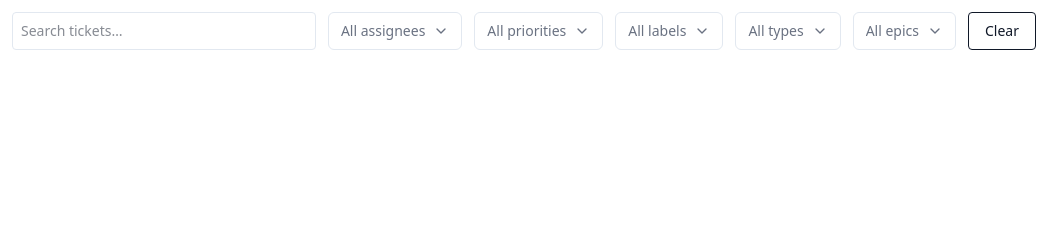
Test: BoardFilters › renders search input + populated pickers + clear
Check: the field with placeholder "Search tickets…" is shown, box [12,12,316,50]
Check: the button with aria-label "Filter by priority" is shown, box [474,12,603,50]
Press the mouse on the button with aria-label "Filter by assignee" at {"x": 395, "y": 31}, box [328,12,462,50]
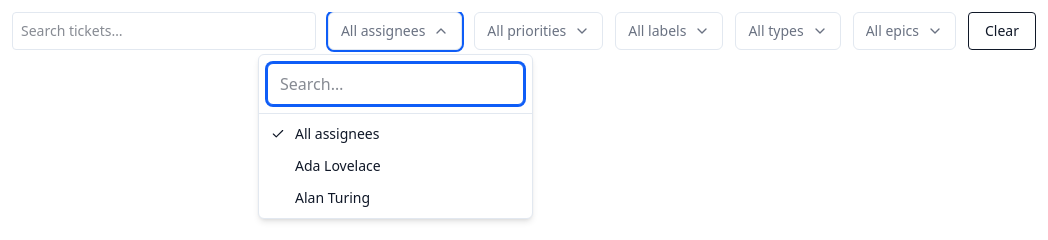
Check: the menu item "All assignees" is shown, box [271,124,380,143]
Check: the menu item "Ada Lovelace" is shown, box [295,156,381,175]
Check: the menu item "Alan Turing" is shown, box [295,188,370,207]
Press Escape
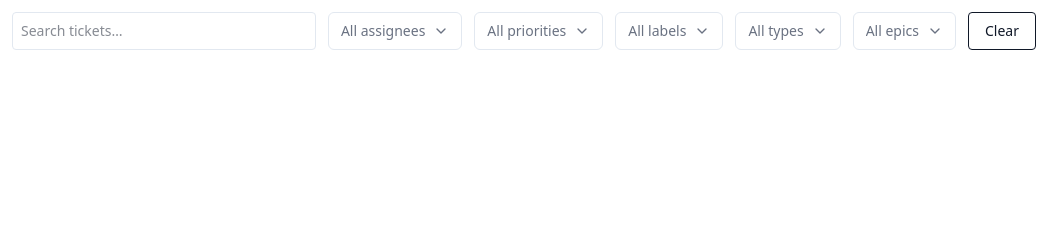
Press the mouse on the button with aria-label "Filter by priority" at {"x": 539, "y": 31}, box [474,12,603,50]
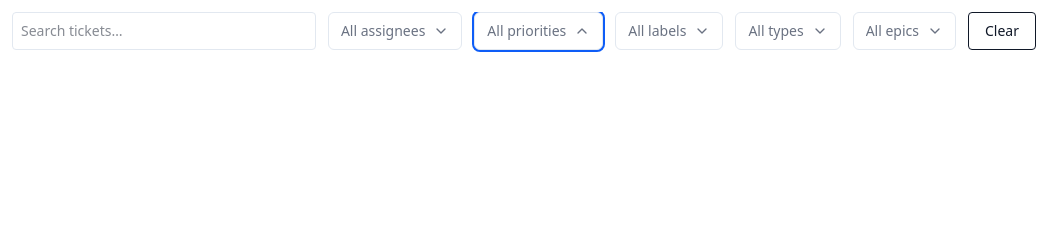
Press Escape
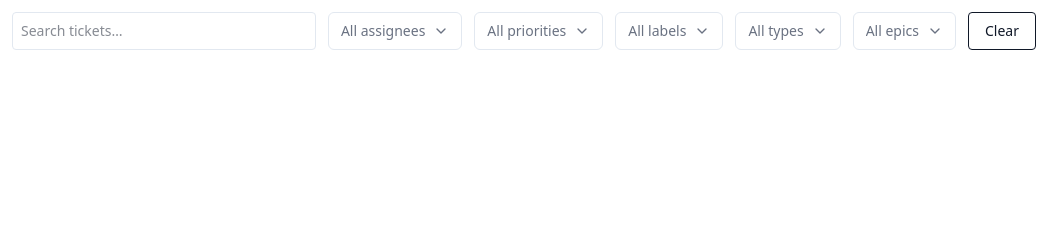
Open the label picker.
Press the mouse on the button with aria-label "Filter by label" at {"x": 669, "y": 31}, box [615,12,723,50]
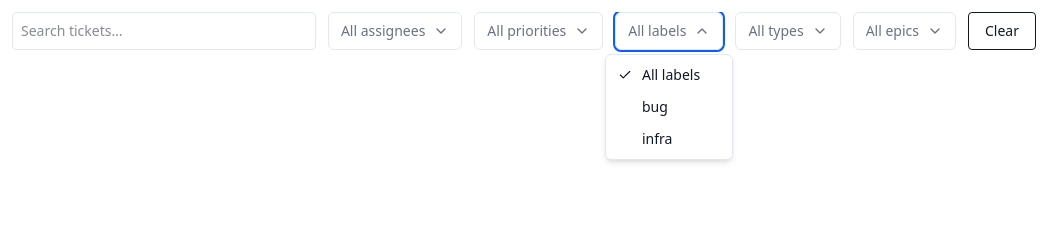
Check: the menu item "All labels" is shown, box [618,65,700,84]
Check: the menu item "bug" is shown, box [642,97,668,116]
Check: the menu item "infra" is shown, box [642,129,672,148]
